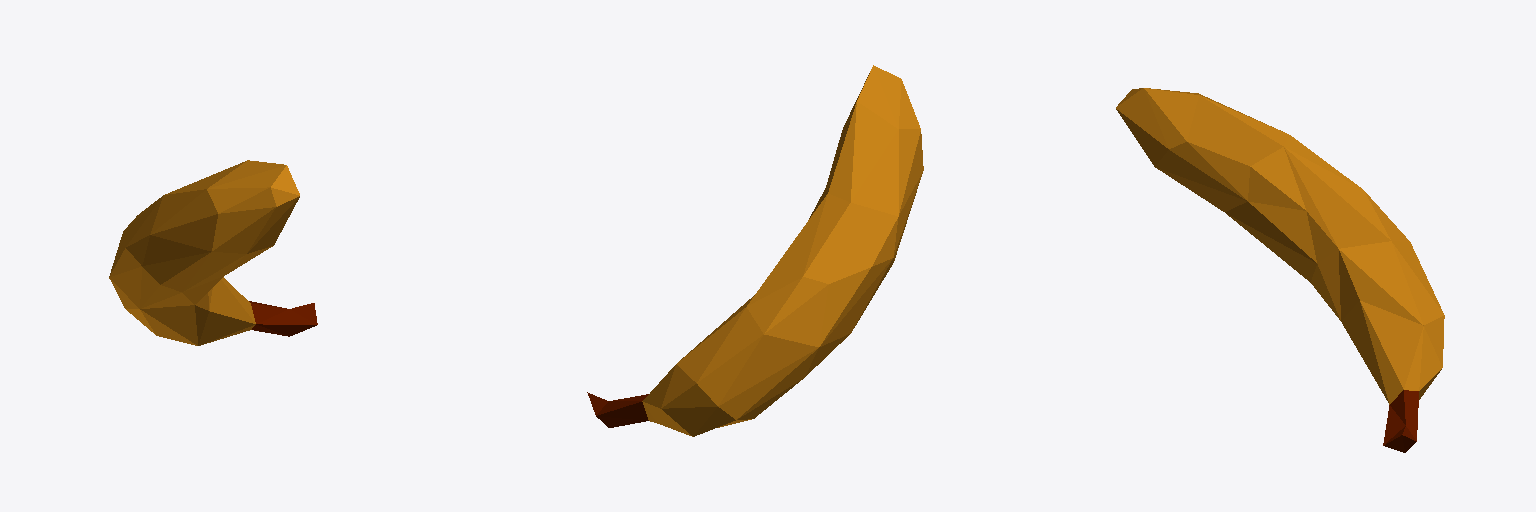
The model's file is BulletMonkeyIce.obj.
3 renders of one model, left to right at view 1: azimuth 30°, elevation 25°; view 2: azimuth 150°, elevation 25°; view 3: azimuth 270°, elevation 25°, orthographic.
Visible parts, largest first — view 1: Banana_Scan; view 2: Banana_Scan; view 3: Banana_Scan.
Part boxes in pixels (x1,y1,x2,y2): Banana_Scan: (109,160,317,345); Banana_Scan: (587,65,923,436); Banana_Scan: (1116,88,1444,452).
Bounding box in the file's own units: 110 × 132 × 131.